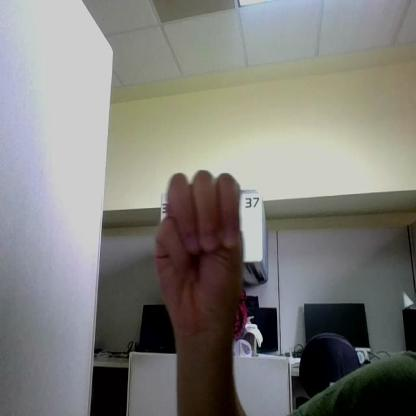M: (155, 171, 243, 334)
